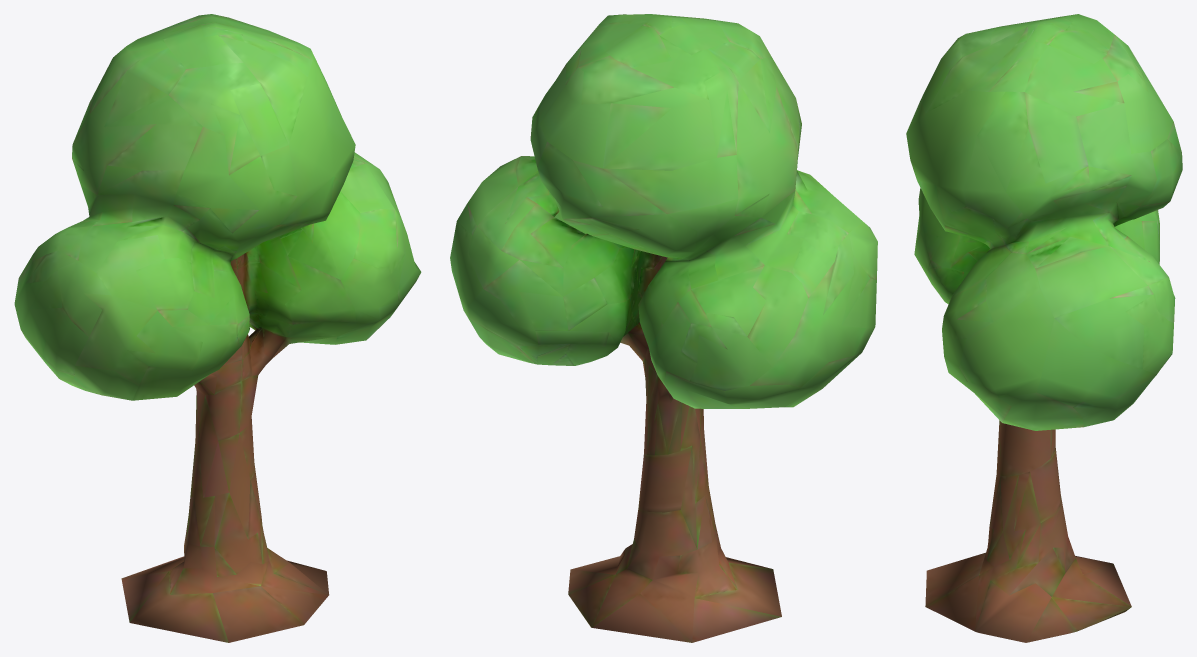
The model's file is tree.glb.
The picture shows the model from 3 angles, left to right: view 1: azimuth 30°, elevation 25°; view 2: azimuth 150°, elevation 25°; view 3: azimuth 270°, elevation 25°; orthographic projection. The views are drawn at different scales.
Parts seen in each view (by area): view 1: Mesh_0; view 2: Mesh_0; view 3: Mesh_0.
Part boxes in pixels (<box>): Mesh_0: <box>14,14,421,642</box>; Mesh_0: <box>450,14,877,642</box>; Mesh_0: <box>906,14,1182,642</box>.
Bounding box in the file's own units: 0.6766 × 1 × 0.4394.
1 material, 1 textured.
